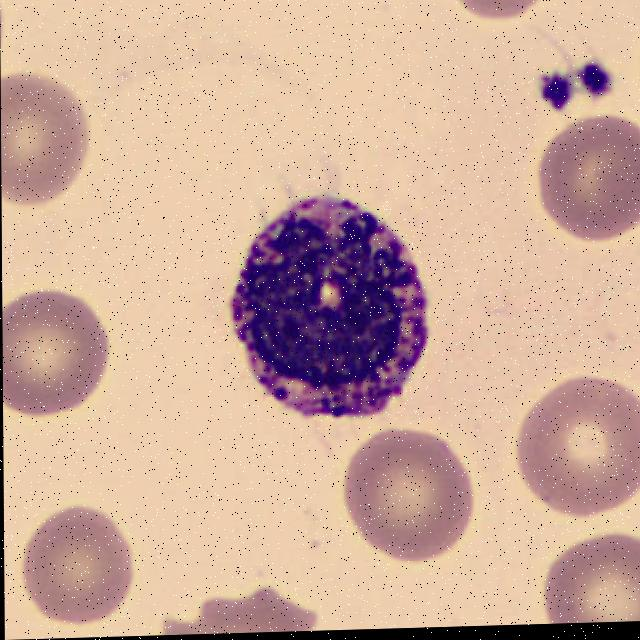basophil: (212, 171, 464, 434)
platelets: (517, 37, 632, 113)
rbc: (494, 370, 640, 530), (343, 421, 481, 567), (20, 482, 147, 634), (519, 122, 640, 261), (2, 284, 116, 417), (1, 70, 98, 217), (522, 534, 640, 625), (151, 587, 332, 636), (449, 0, 567, 31)
